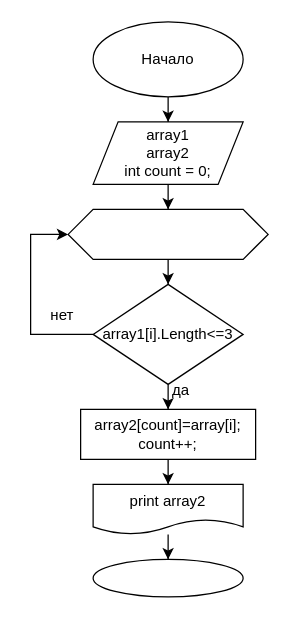
This 290x619 diagram has some shape labels left out. Here are the shapes that lost their labels. From the top down, the centre of each, then its label:
At (x=167, y=233): "int i=0; i<array1.Lenght; i++".
At (x=167, y=577): "конец".
